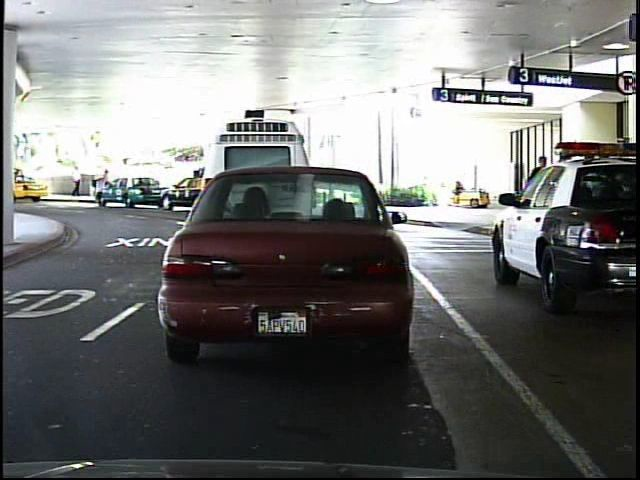person: (523, 149, 555, 231), (96, 165, 115, 200), (71, 161, 85, 200)
